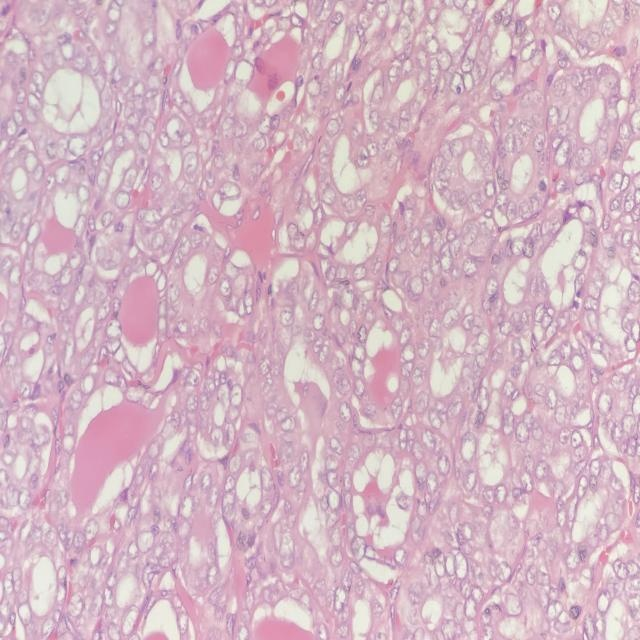TC: (212, 171, 250, 212), (161, 106, 190, 151), (344, 525, 372, 571), (76, 509, 108, 549), (328, 363, 359, 404), (457, 425, 485, 468), (146, 221, 177, 259), (478, 267, 507, 307), (361, 77, 394, 111), (314, 175, 342, 214), (255, 461, 282, 499), (511, 413, 537, 450), (225, 377, 250, 415), (322, 485, 347, 522), (76, 368, 99, 406), (397, 336, 422, 370), (467, 127, 489, 165), (408, 264, 427, 307), (110, 186, 133, 221), (354, 137, 376, 173), (434, 447, 456, 478), (203, 258, 225, 286)
